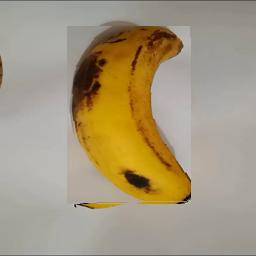Banana Semifresh: (68, 27, 192, 205)
